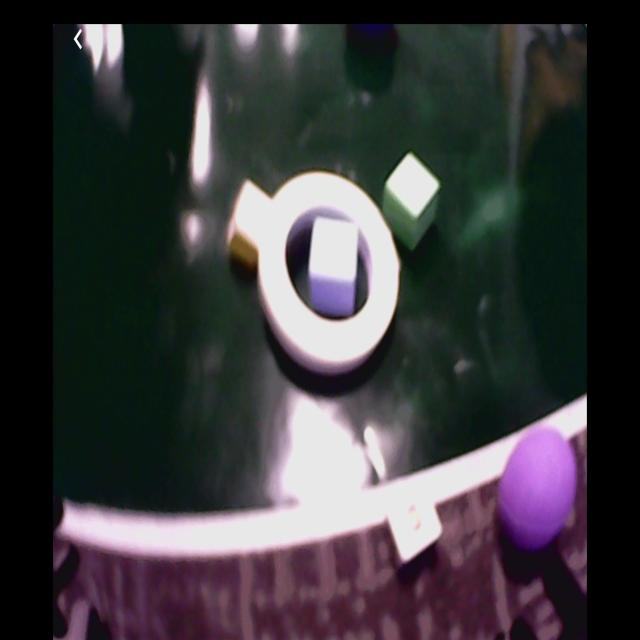ball: (498, 422, 576, 554)
